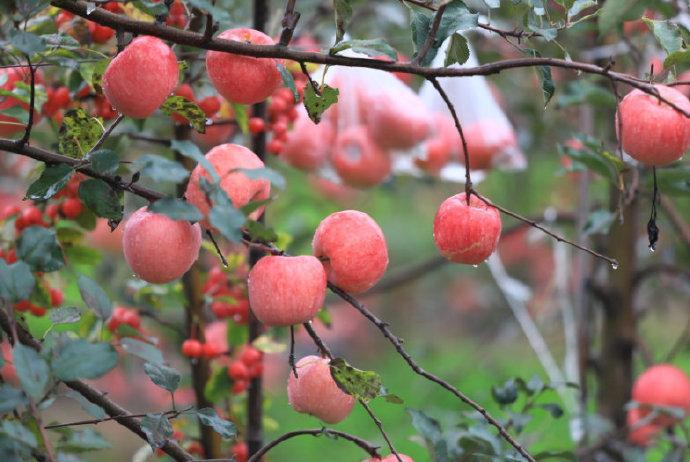apple: (101, 32, 179, 119), (119, 207, 200, 284), (613, 83, 687, 167), (316, 210, 388, 295), (204, 27, 282, 105), (247, 254, 326, 326), (432, 190, 501, 266), (285, 356, 360, 424)
